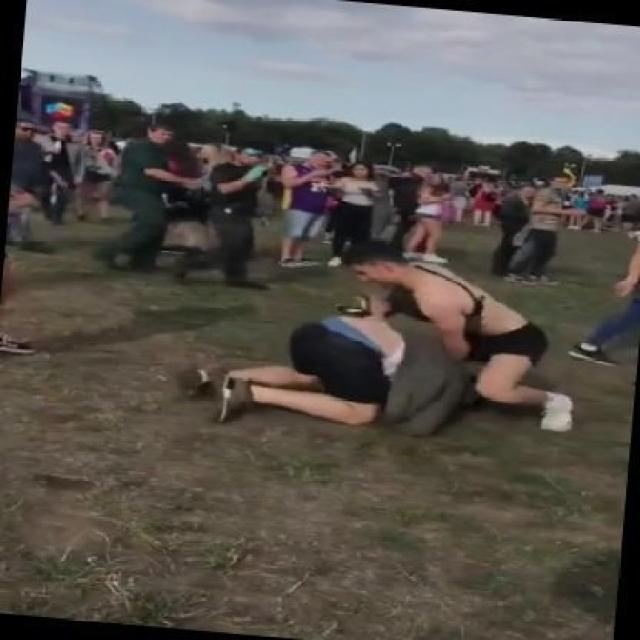fight: (194, 237, 577, 441)
non-fight: (317, 155, 401, 271), (480, 174, 535, 281)
